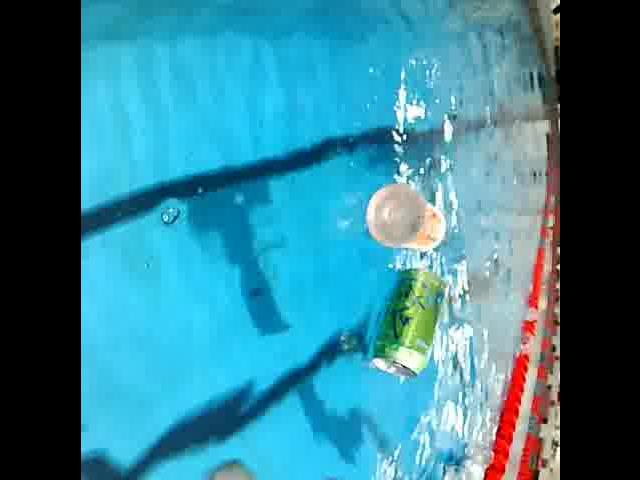Bottle: (359, 177, 453, 260), (424, 435, 492, 480)
Can: (368, 265, 448, 386)
